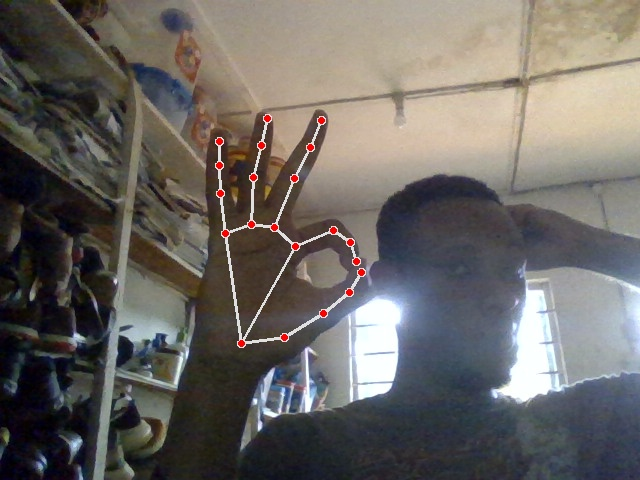okay: (194, 110, 370, 376)
